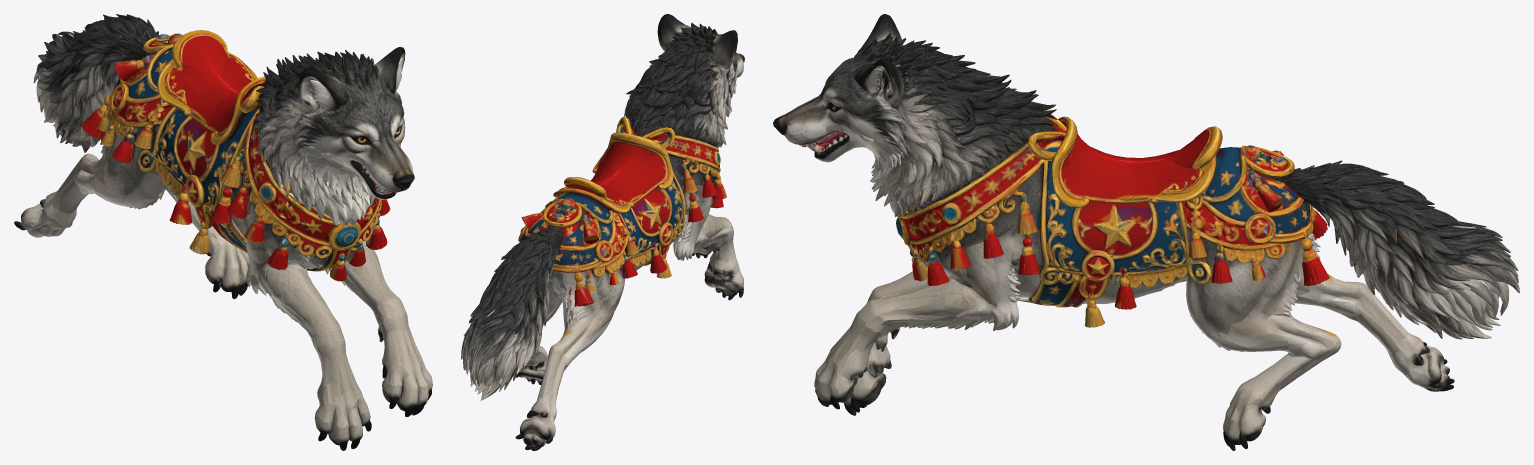
File: wolf.glb
The picture shows the model from 3 angles, left to right: view 1: azimuth 30°, elevation 25°; view 2: azimuth 150°, elevation 25°; view 3: azimuth 270°, elevation 25°; orthographic projection. The views are drawn at different scales.
Size of the model in its own units: 0.4759 by 1.09 by 1.91.
Materials: 1 (1 with a texture image).
